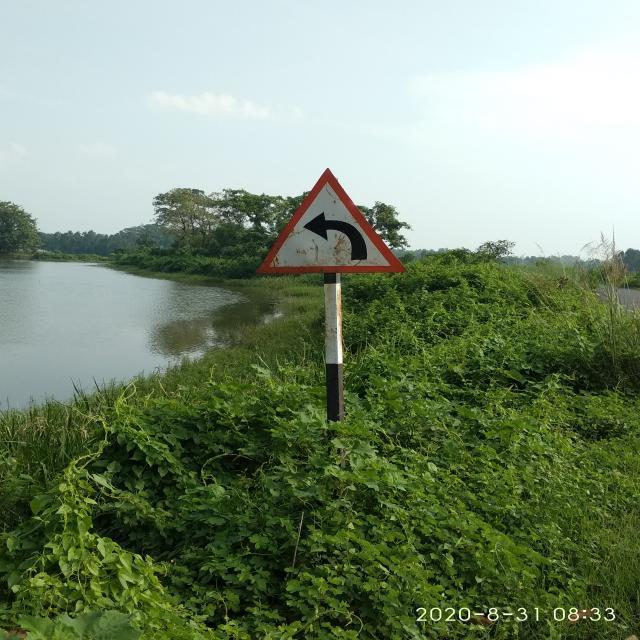left hand curve: (250, 165, 413, 278)
